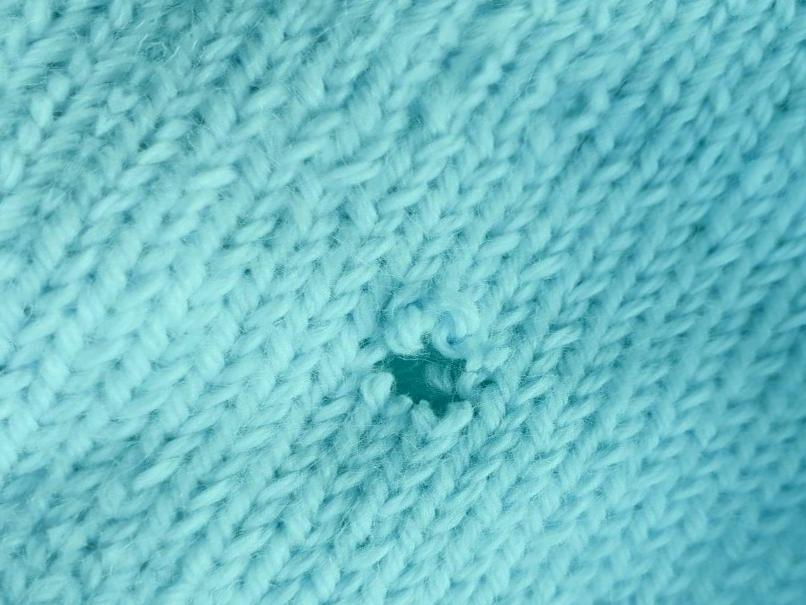hole: (363, 333, 485, 426)
